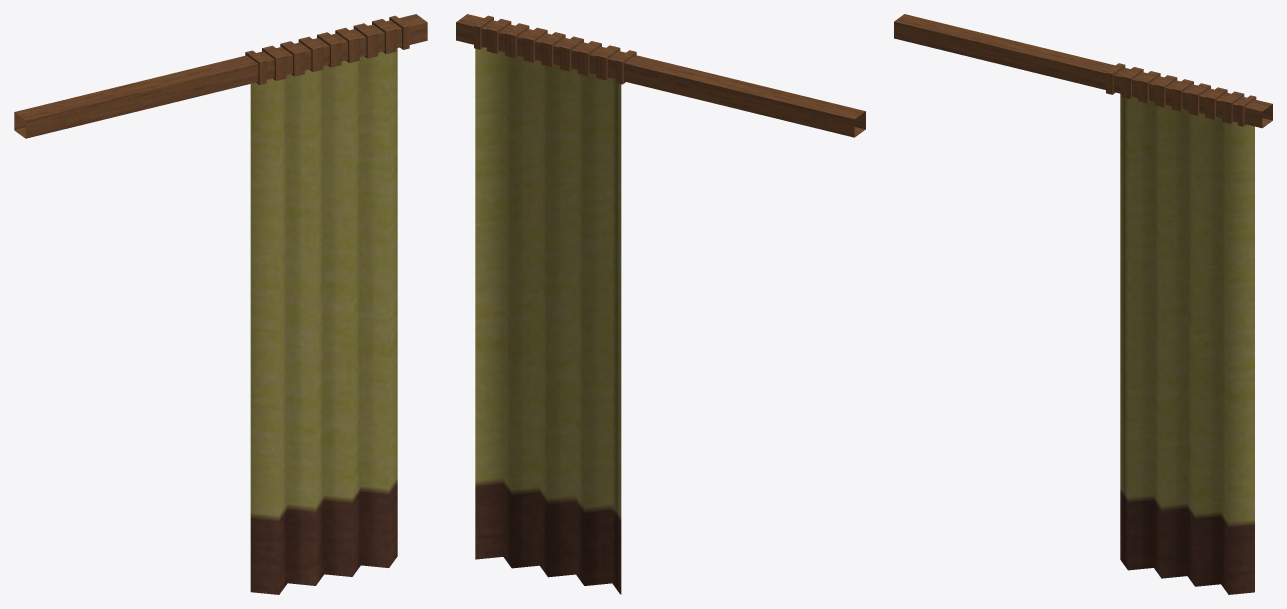
The model's file is Curtain_1B.fbx.
3 views of the same model, side by side, from view 1: azimuth 30°, elevation 25°; view 2: azimuth 150°, elevation 25°; view 3: azimuth 330°, elevation 25° (orthographic). The views are drawn at different scales.
Parts seen in each view (by area): view 1: polySurface1559; view 2: polySurface1559; view 3: polySurface1559.
Boxes of the visible parts, <box> form: polySurface1559: <box>14,14,427,594</box>; polySurface1559: <box>456,14,865,594</box>; polySurface1559: <box>894,14,1272,594</box>.
Bounding box in the file's own units: 2.4 × 3.08 × 0.1452.
